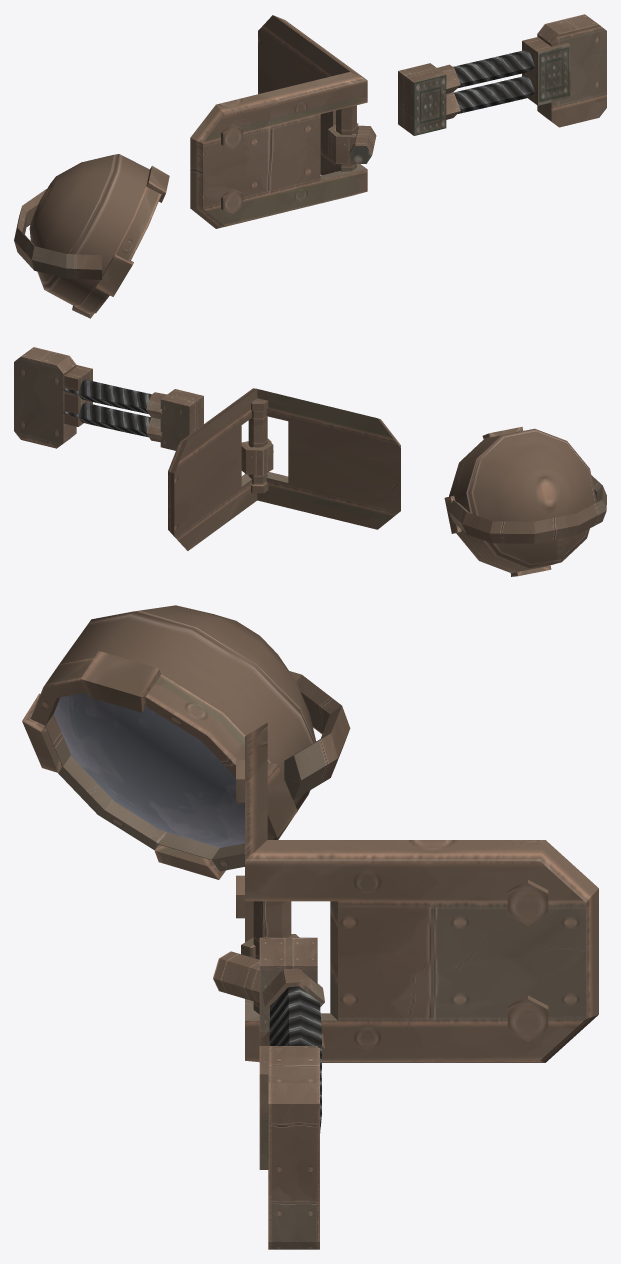
The model's file is LightParts.fbx.
3 views of the same model, one above another, from view 1: azimuth 30°, elevation 25°; view 2: azimuth 150°, elevation 25°; view 3: azimuth 270°, elevation 25° (orthographic). The views are drawn at different scales.
Visible parts, largest first — view 1: Lights, Lights.001, Lights.002; view 2: Lights, Lights.001, Lights.002; view 3: Lights, Lights.001, Lights.002.
Boxes of the visible parts, x1,y1,x2,y2 form: Lights: (190,15,376,228); Lights.001: (14,154,169,318); Lights.002: (398,14,606,135); Lights: (168,388,400,550); Lights.001: (444,426,606,576); Lights.002: (14,347,203,450); Lights: (213,722,598,1062); Lights.001: (22,605,350,879); Lights.002: (259,937,324,1249).
Bounding box in the file's own units: 891 × 215 × 406.
